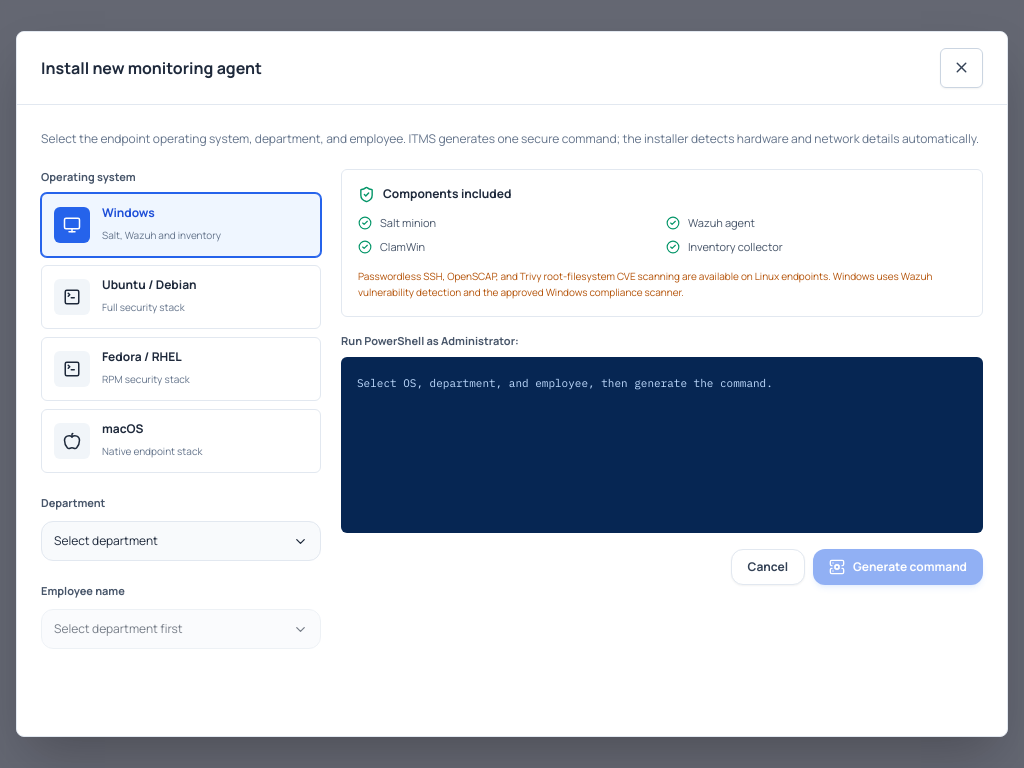
Scenario: InstallAgentModal › copies the command with a fallback when clipboard access is denied
Click the dropdown labelled "Select department": (106, 541) [41,521,321,561]
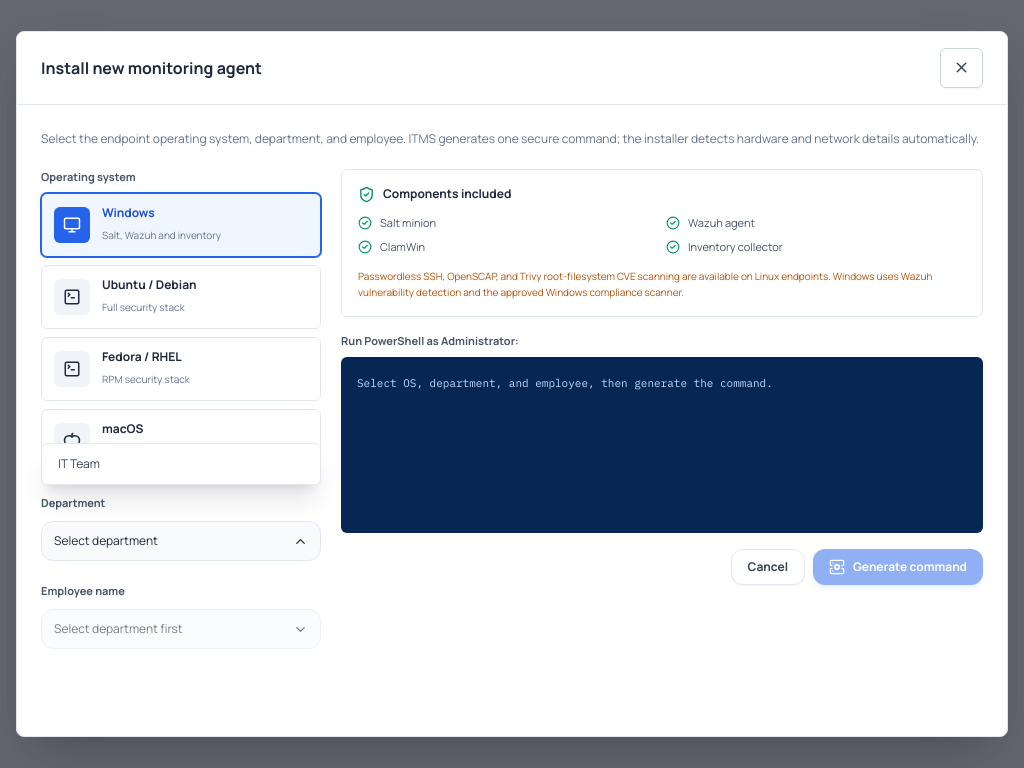
Press the mouse on the option "IT Team": (79, 464) [46,448,316,480]
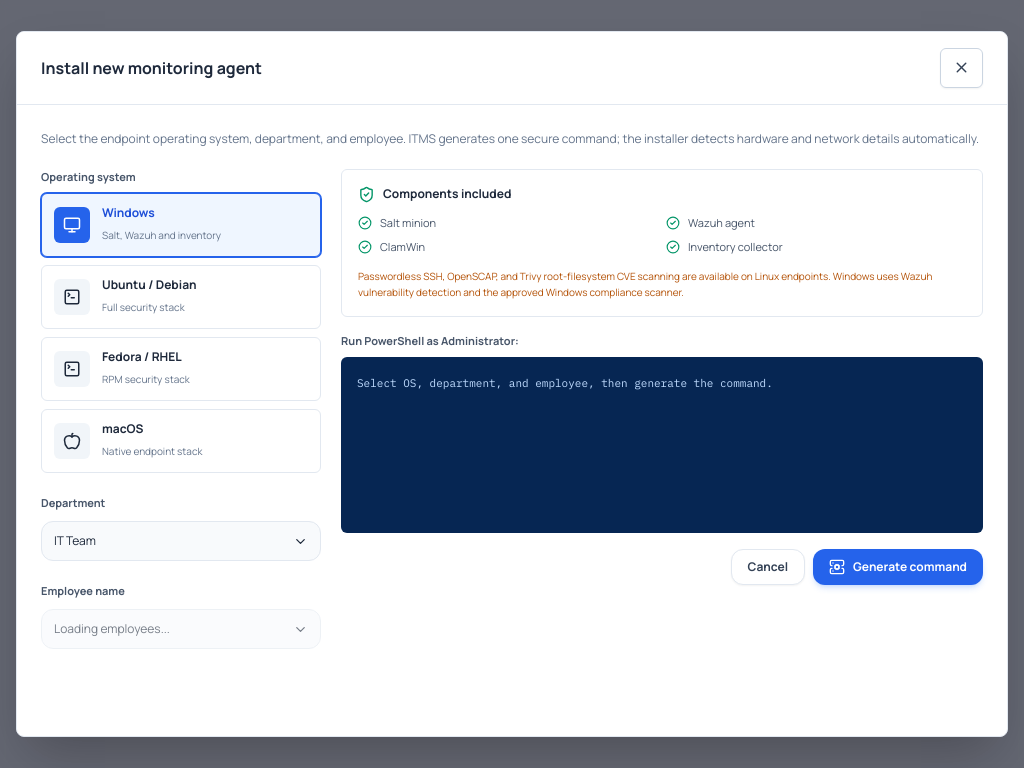
Click the button "Generate command": (898, 567) [813,549,983,585]
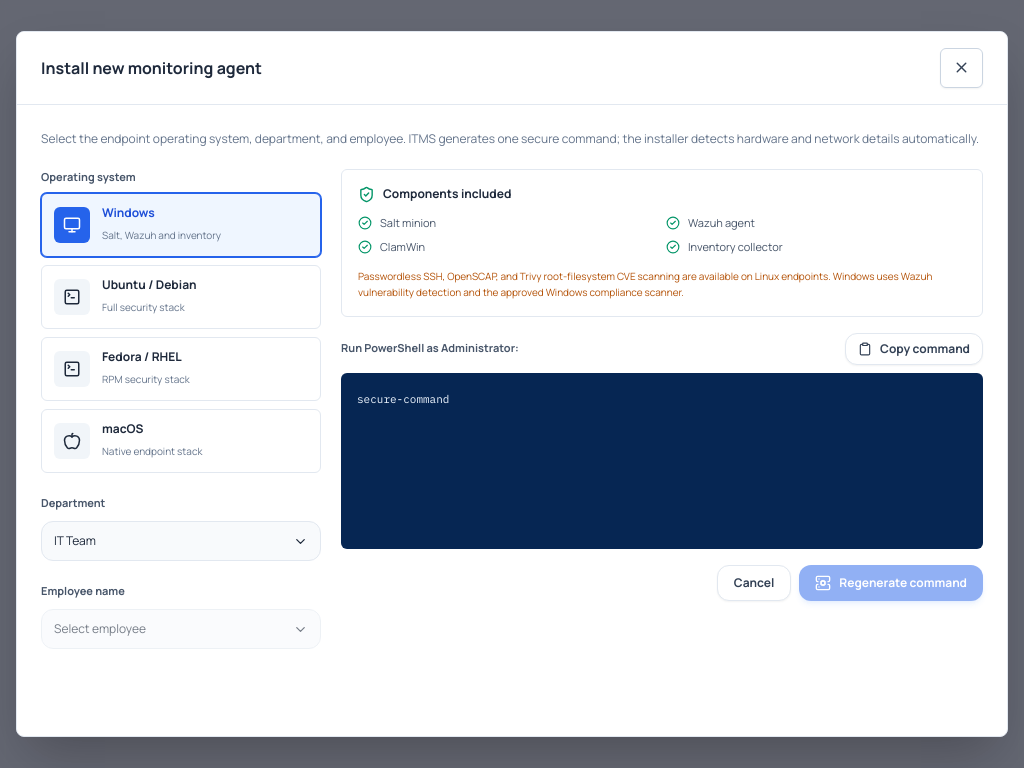
Click the button "Copy command": (914, 349) [845,333,983,365]
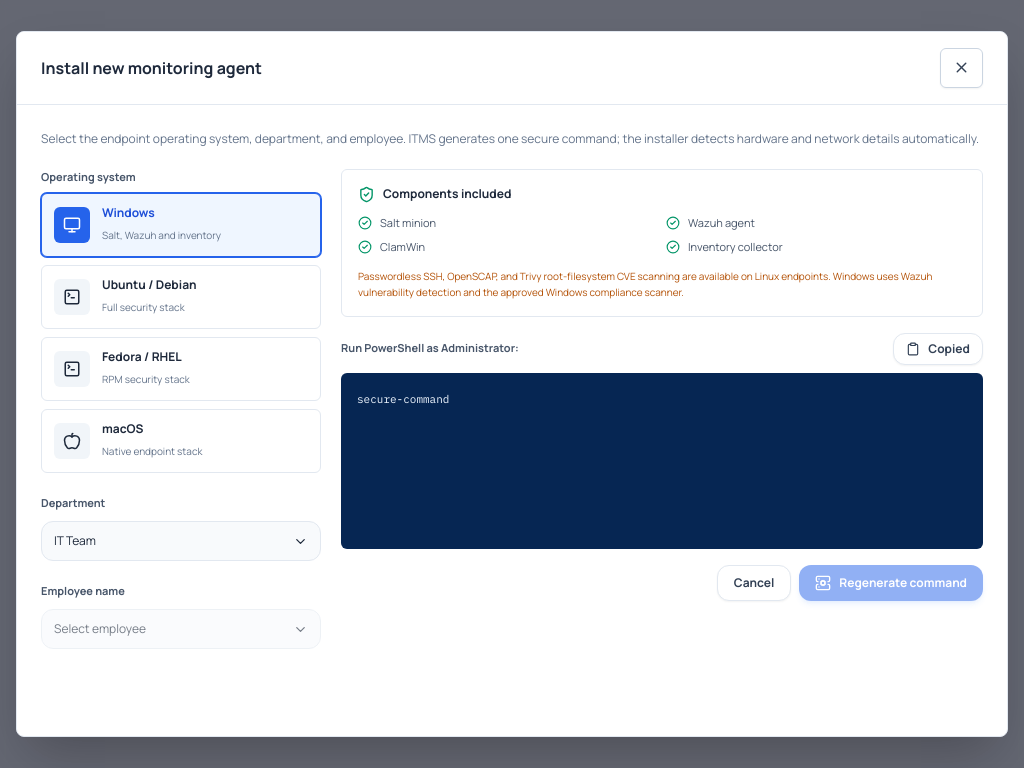
Now the button "Copied" is shown, box [893,333,983,365]
